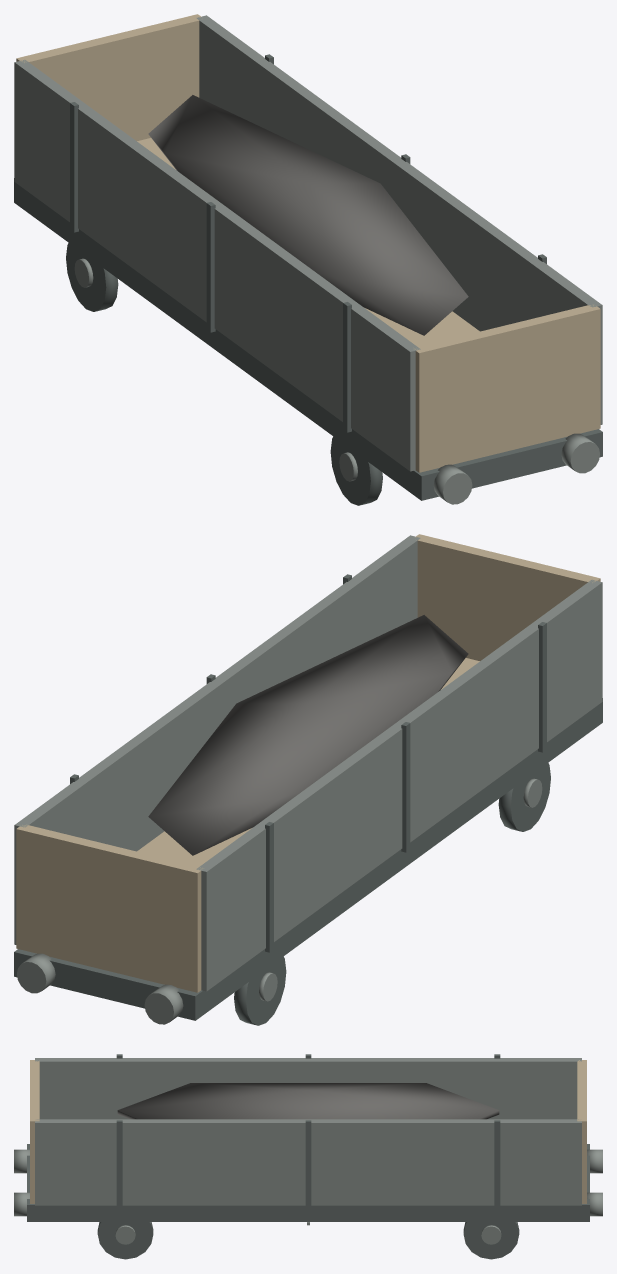
The model's file is rhine-hopper_lod0.glb.
3 renders of one model, top to bottom at view 1: azimuth 30°, elevation 25°; view 2: azimuth 150°, elevation 25°; view 3: azimuth 270°, elevation 25°, orthographic. The views are drawn at different scales.
Parts seen in each view (by area): view 1: RF_WagonSide.001, RF_CoalLoad, RF_WagonSide, RF_WagonEnd.001, RF_WagonEnd, RF_Chassis, RF_Wheel.001, RF_Wheel.003, RF_FreightFloor, RF_Buffer.002, RF_WagonStrap.002, RF_Buffer.001 (+2 smaller); view 2: RF_WagonSide.001, RF_CoalLoad, RF_WagonSide, RF_WagonEnd, RF_WagonEnd.001, RF_Chassis, RF_Wheel.003, RF_Wheel.001, RF_FreightFloor, RF_Buffer, RF_WagonStrap.002, RF_Buffer.003 (+2 smaller); view 3: RF_WagonSide, RF_WagonSide.001, RF_CoalLoad, RF_Chassis, RF_Wheel.002, RF_Wheel, RF_WagonEnd, RF_WagonEnd.001, RF_WagonStrap.004, RF_WagonStrap, RF_WagonStrap.005, RF_Buffer.001 (+5 smaller).
Boxes of the visible parts, x1,y1,x2,y2 form: RF_WagonSide.001: (14, 59, 420, 471); RF_CoalLoad: (148, 95, 468, 335); RF_WagonSide: (196, 15, 602, 424); RF_WagonEnd.001: (414, 304, 600, 472); RF_WagonEnd: (16, 14, 201, 140); RF_Chassis: (14, 178, 602, 500); RF_Wheel.001: (330, 436, 382, 505); RF_Wheel.003: (66, 243, 118, 311); RF_FreightFloor: (137, 138, 479, 346); RF_Buffer.002: (561, 433, 599, 473); RF_WagonStrap.002: (206, 202, 215, 332); RF_Buffer.001: (433, 464, 472, 504); RF_WagonSide.001: (196, 579, 602, 991); RF_CoalLoad: (148, 615, 468, 855); RF_WagonSide: (14, 535, 420, 944); RF_WagonEnd: (16, 824, 203, 992); RF_WagonEnd.001: (415, 534, 600, 660); RF_Chassis: (14, 698, 602, 1020); RF_Wheel.003: (234, 956, 286, 1025); RF_Wheel.001: (498, 763, 550, 831); RF_FreightFloor: (137, 658, 479, 866); RF_Buffer: (17, 953, 55, 993); RF_WagonStrap.002: (401, 722, 410, 852); RF_Buffer.003: (144, 984, 183, 1024); RF_WagonSide: (35, 1119, 581, 1205); RF_WagonSide.001: (35, 1058, 581, 1119); RF_CoalLoad: (117, 1083, 499, 1119); RF_Chassis: (27, 1144, 589, 1221); RF_Wheel.002: (97, 1222, 153, 1259); RF_Wheel: (463, 1222, 519, 1259); RF_WagonEnd: (577, 1060, 586, 1203); RF_WagonEnd.001: (30, 1060, 39, 1203); RF_WagonStrap.004: (116, 1120, 122, 1209); RF_WagonStrap: (494, 1120, 500, 1209); RF_WagonStrap.005: (305, 1120, 311, 1209); RF_Buffer.001: (14, 1149, 29, 1173).
Size of the model in its own units: 2.97 by 2.9 by 10.98.
